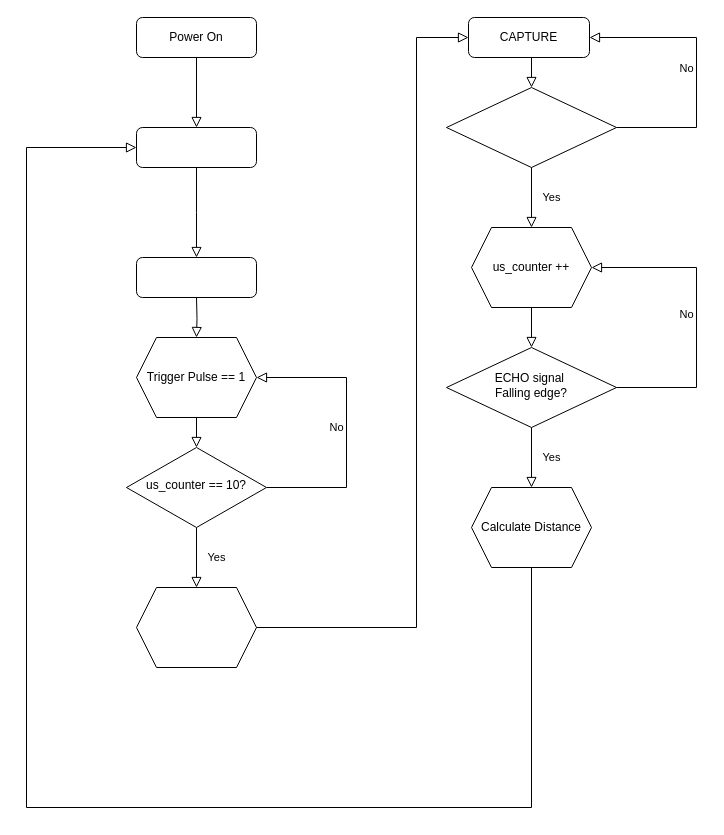
This 724x835 diagram has some shape labels left out. The centre of each missing label's shape, as x and y in pixels:
"ECHO signal Rising edge?" goes at point 531,127.
"IDLE" goes at point 196,147.
"TRIGGER" goes at point 196,277.
"Trigger Pulse == 0" goes at point 196,627.
